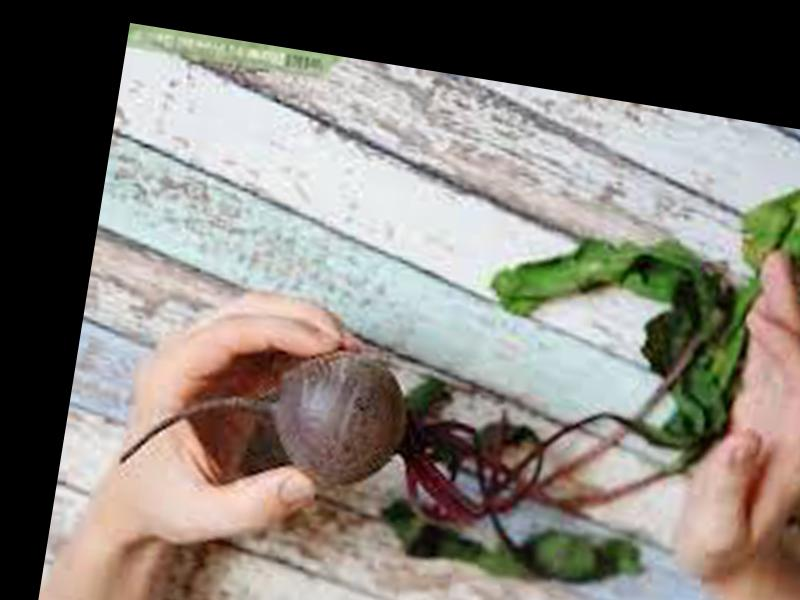Beet: (111, 89, 800, 600)
